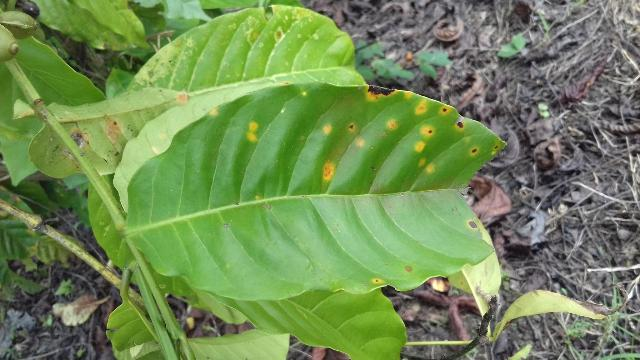rust_level_2: (119, 83, 508, 302)
